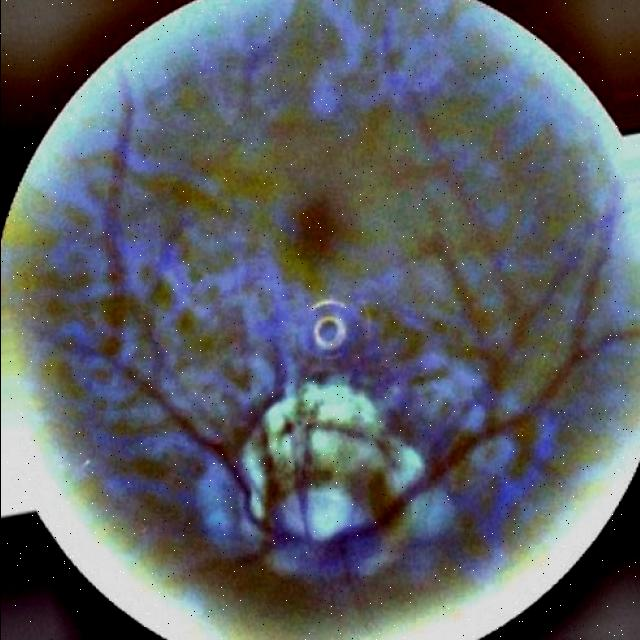Macula: (298, 200, 340, 258)
Nerves: (322, 191, 638, 550), (98, 72, 283, 540), (227, 536, 290, 567), (256, 411, 274, 513)
Optic Disk: (259, 472, 405, 579)
